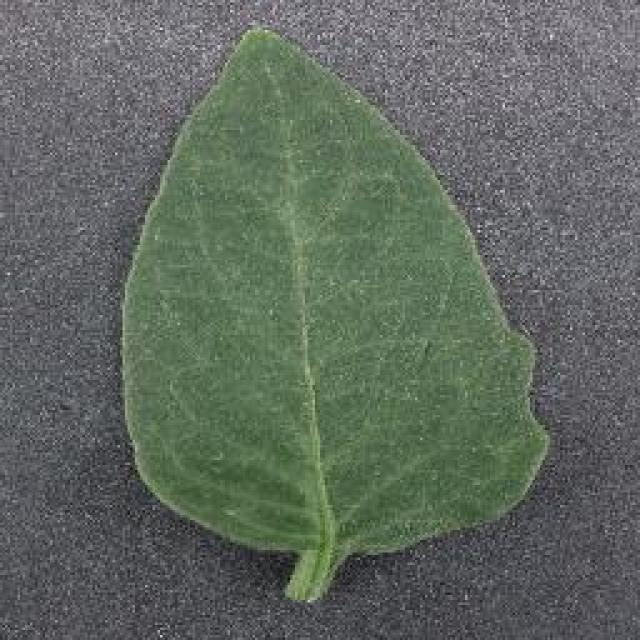Tomato_Healthy: (81, 9, 573, 561)
